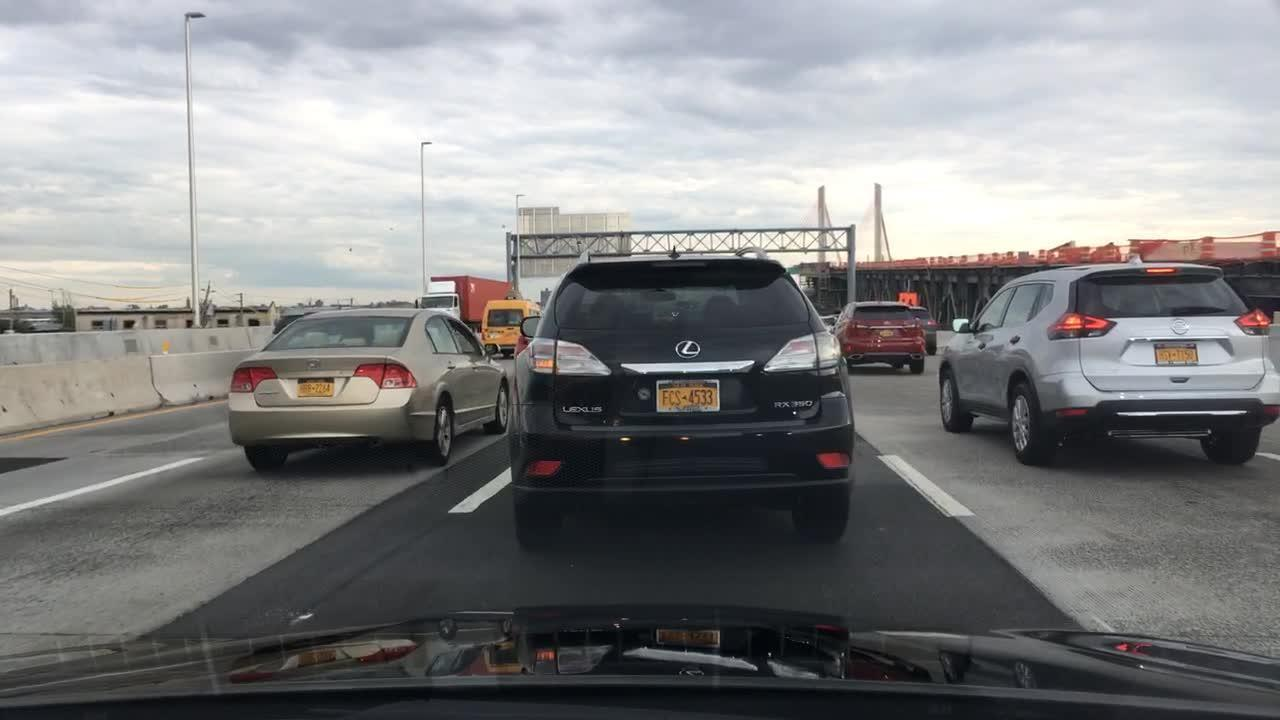lexus: (672, 330, 708, 366)
